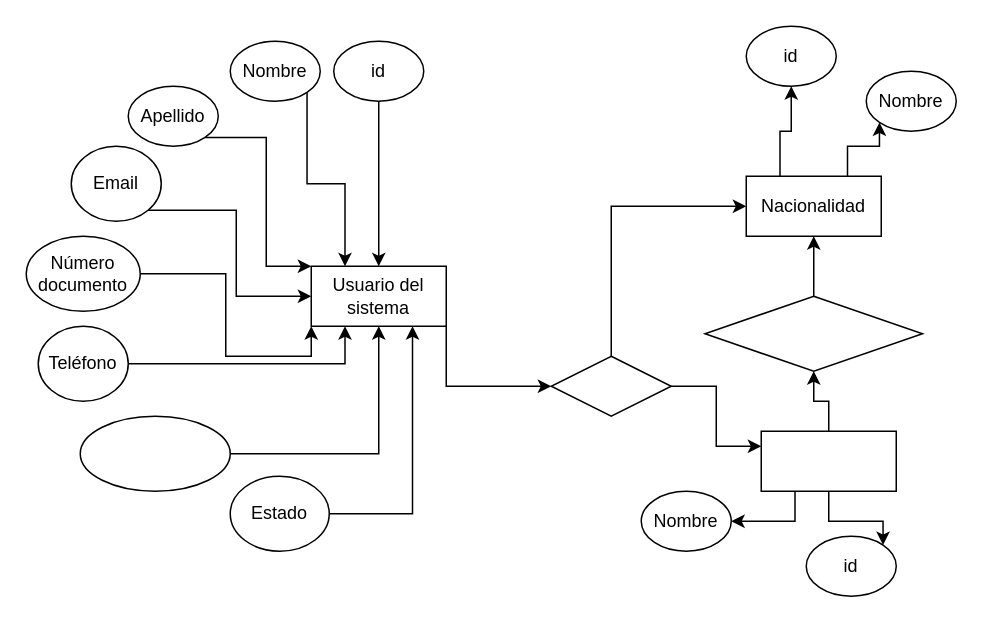
Some shapes in this 983 by 623 pixel diagram are drawn without their labels. Each missing label, with the centre of its shape:
"Observaciones" goes at pixel 154 453.
"puede pertenecer a" goes at pixel 813 333.
"tiene" goes at pixel 610 385.
"Tipo de documento" goes at pixel 828 460.
